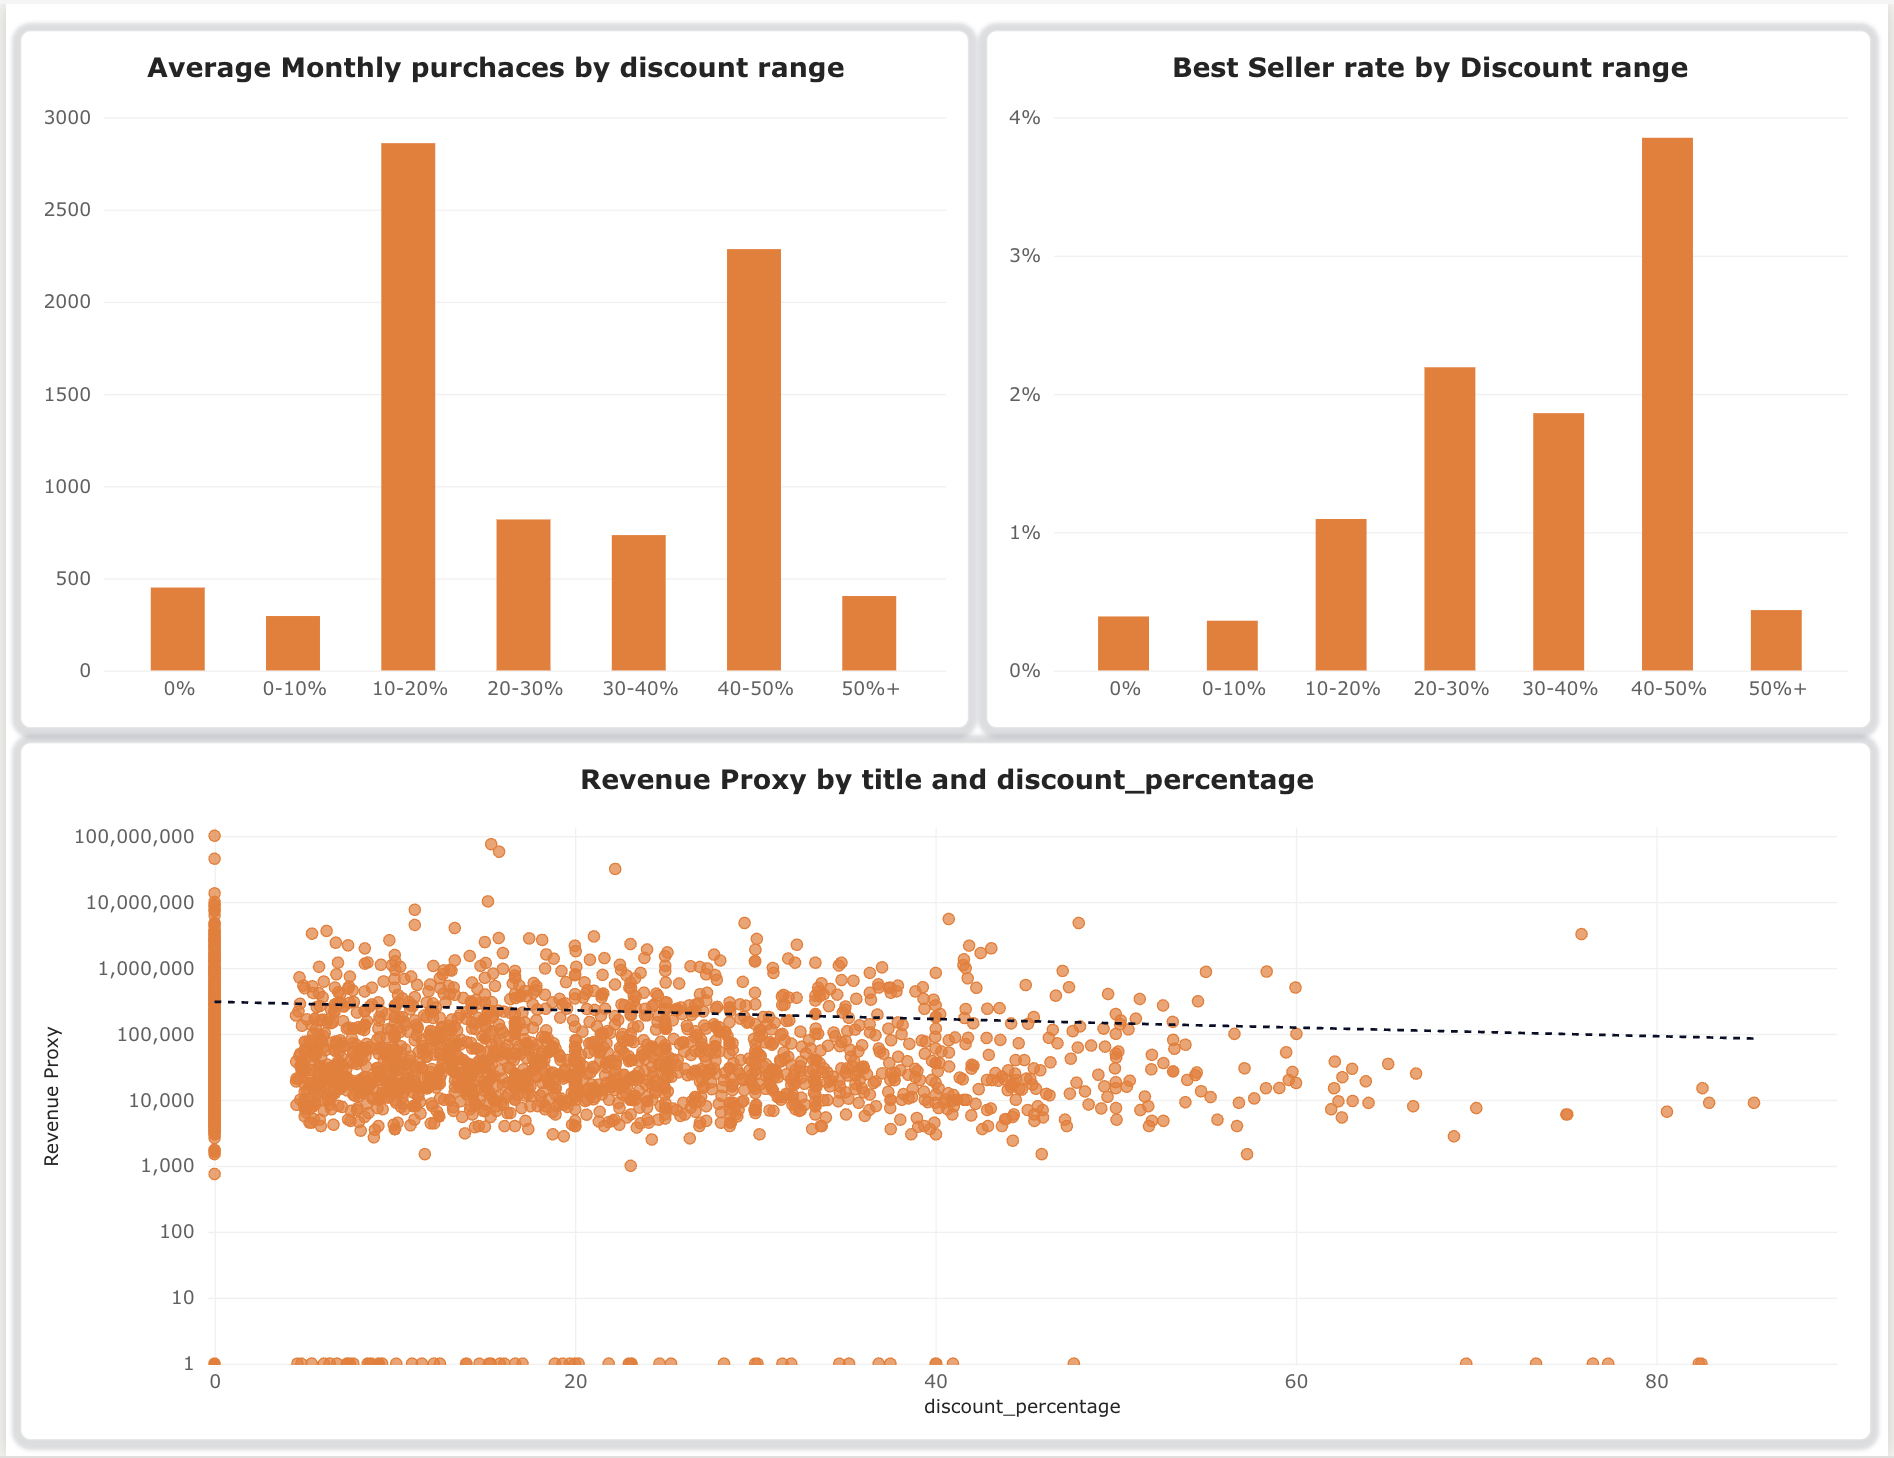

The dashboard page shown, as its layout file describes it:
{"tool":"powerbi","page":{"name":"Discount Performance","canvas":[1400,1080],"ordinal":1},"visuals":[{"type":"clusteredColumnChart","title":"Average Monthly purchaces by discount range","fields":{"Category":["Amazon Sales Data.discount_range"],"Y":["Avg(Amazon Sales Data.purchased_last_month_est)"]},"box":[10.9,19.9,705.8,519.4],"z":0},{"type":"clusteredColumnChart","title":"Best Seller rate by Discount range","fields":{"Category":["Amazon Sales Data.discount_range"],"Y":["Avg(Amazon Sales Data.is_best_seller)"]},"box":[729.3,19.9,658.7,519.4],"z":1000},{"type":"scatterChart","fields":{"Series":["Amazon Sales Data.title"],"X":["Amazon Sales Data.discount_percentage"],"Y":["Amazon Sales Data.Revenue Proxy"]},"box":[10.9,548.3,1377.2,519.4],"z":2000}]}

Visuals, with their boxes in screenshot pixels (x1, y1, x2, y2), scaled from the page's 1400x1080 canvas onto the 1894x1458 screenshot:
"Average Monthly purchaces by discount range" clusteredColumnChart: [15,27,970,728]
"Best Seller rate by Discount range" clusteredColumnChart: [987,27,1878,728]
scatterChart - Amazon Sales Data.title x Amazon Sales Data.discount_percentage: [15,740,1878,1441]
